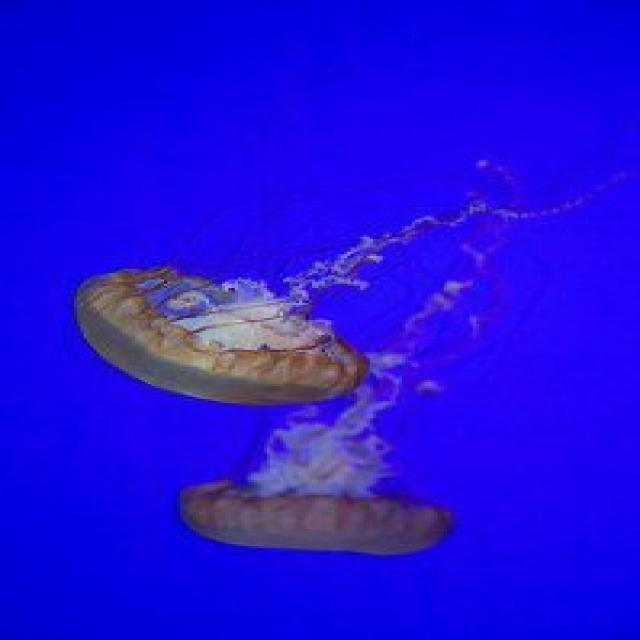Jellyfish: (67, 252, 398, 398), (166, 427, 474, 564)
